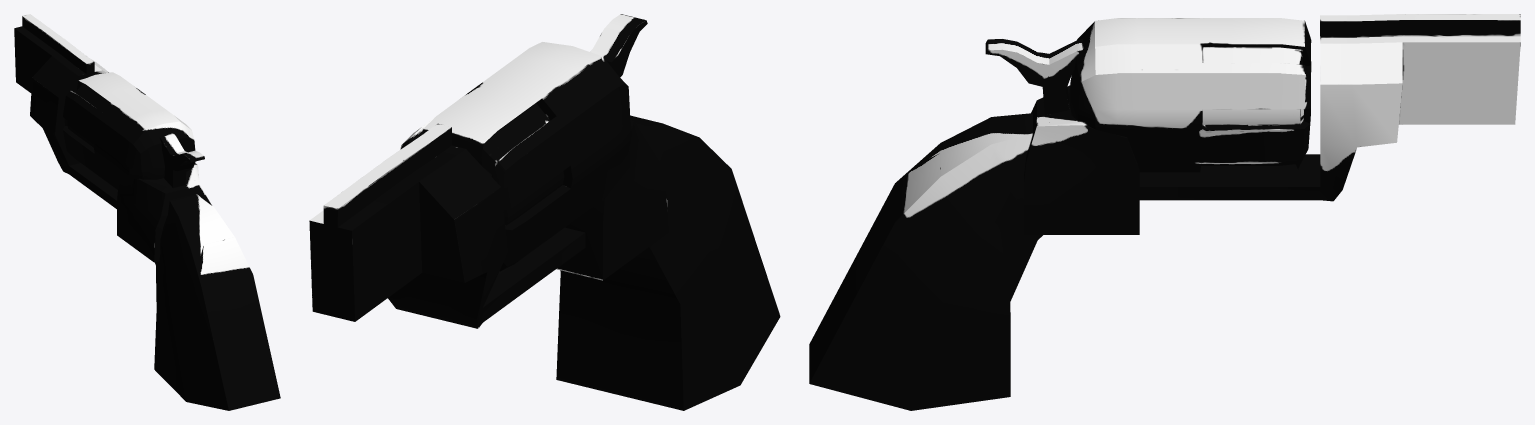
File: Model_Gun.obj
3 renders of one model, left to right at view 1: azimuth 30°, elevation 25°; view 2: azimuth 150°, elevation 25°; view 3: azimuth 270°, elevation 25°, orthographic. The views are drawn at different scales.
Visible parts, largest first — view 1: Cube.007; view 2: Cube.007; view 3: Cube.007.
Part boxes in pixels (left/top/right/bottom): Cube.007: left=14, top=14, right=280, bottom=410; Cube.007: left=309, top=14, right=780, bottom=410; Cube.007: left=809, top=14, right=1520, bottom=410.
Bounding box in the file's own units: 2.01 × 6.25 × 11.
1 material, 1 textured.
